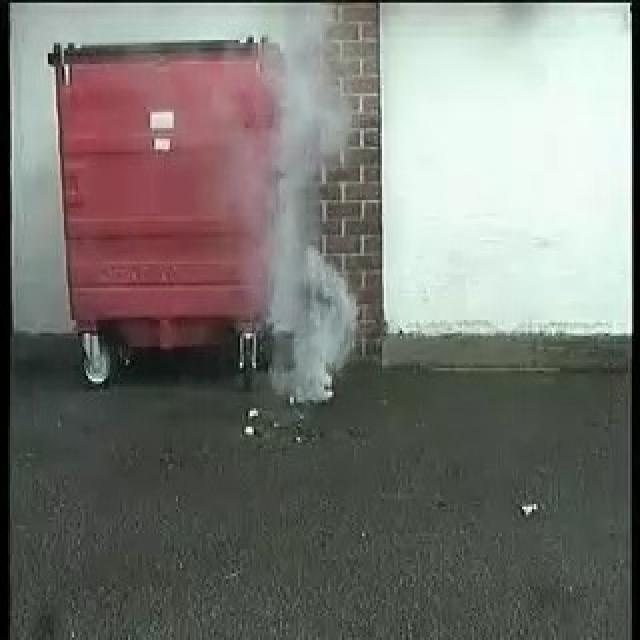smoke: (248, 92, 358, 400)
